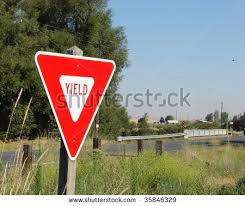yield_sign: (34, 50, 117, 161)
